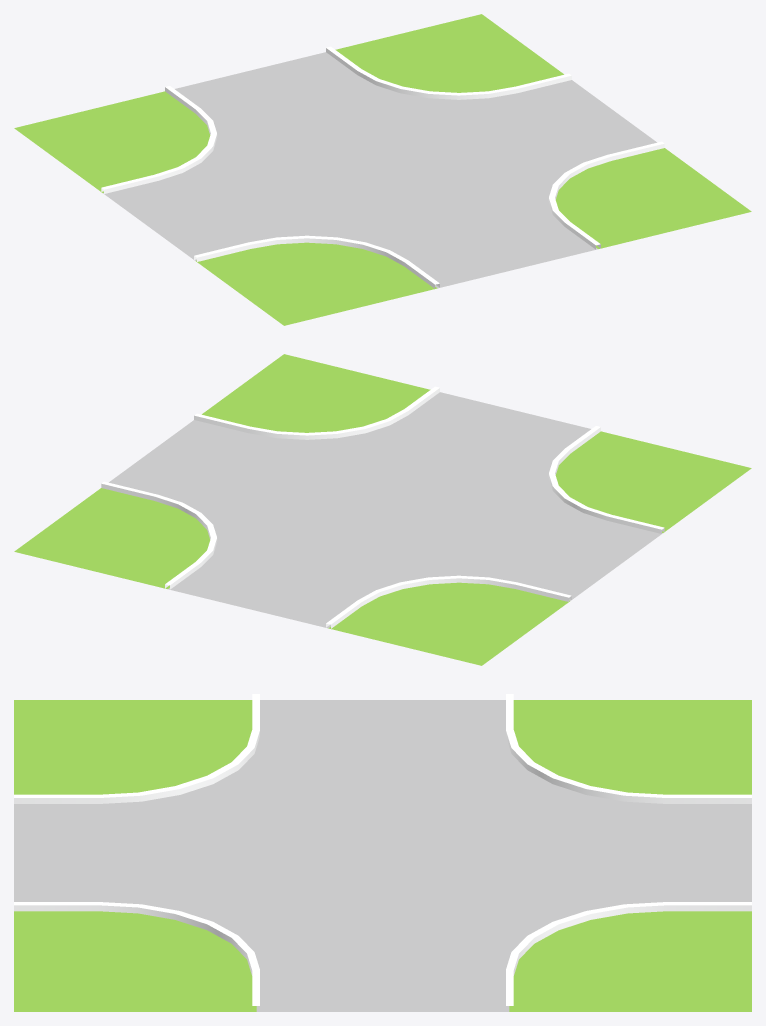
The model's file is Sidewalk_27.glb.
The picture shows the model from 3 angles, top to bottom: view 1: azimuth 30°, elevation 25°; view 2: azimuth 150°, elevation 25°; view 3: azimuth 270°, elevation 25°; orthographic projection. The views are drawn at different scales.
Parts seen in each view (by area): view 1: Sidewalk_27; view 2: Sidewalk_27; view 3: Sidewalk_27.
Boxes of the visible parts, bbox=[...] form: Sidewalk_27: bbox=[14, 14, 751, 325]; Sidewalk_27: bbox=[14, 354, 751, 665]; Sidewalk_27: bbox=[14, 694, 751, 1011].
Size of the model in its own units: 15 by 0.1333 by 15.
1 material, 1 textured.
